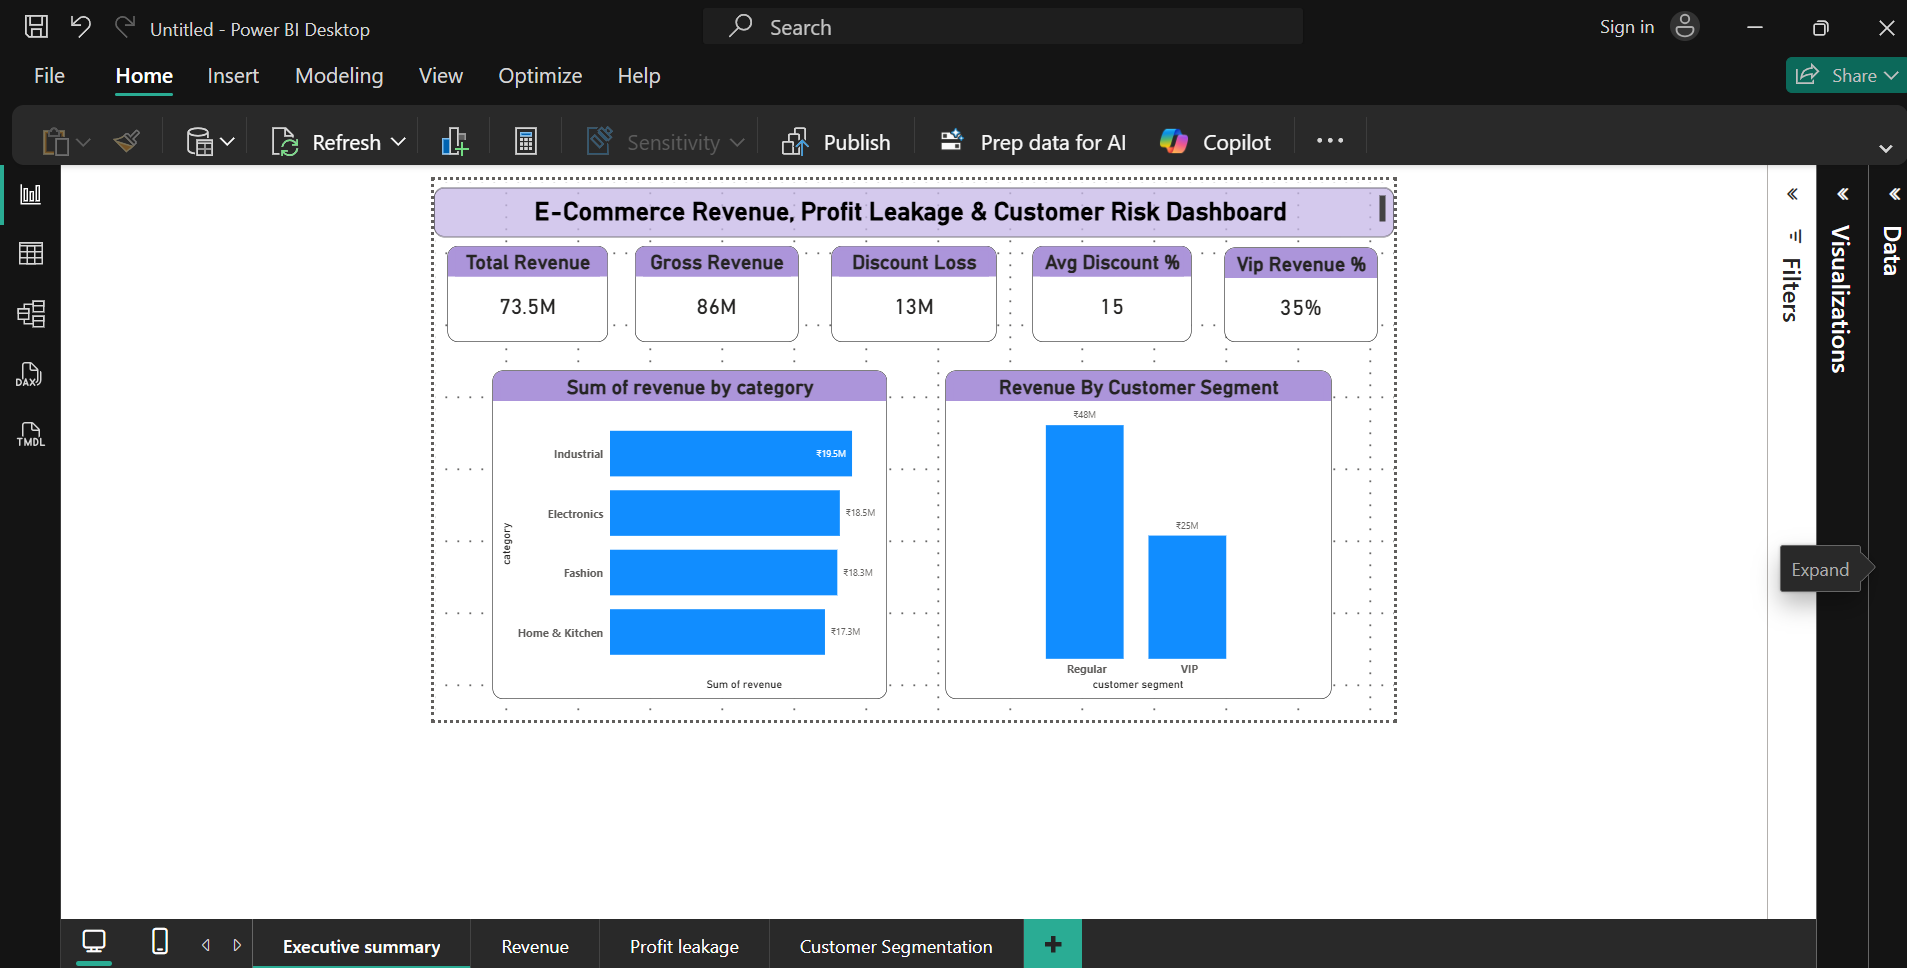

The page's visual inventory and layout, read from the dashboard file:
{"tool":"powerbi","page":{"name":"Executive summary","canvas":[1280,720],"ordinal":0},"visuals":[{"type":"card","title":"Total Revenue","fields":{"Values":["Sum(orders.revenue)"]},"box":[18,88,214,128],"z":0},{"type":"card","title":"Gross Revenue","fields":{"Values":["Sum(orders.gross revenue)"]},"box":[268,88,218,128],"z":1000},{"type":"card","title":"Discount Loss","fields":{"Values":["Sum(orders.discount loss)"]},"box":[530,88,220,128],"z":2000},{"type":"card","title":"Avg Discount %","fields":{"Values":["Avg(orders.discount_percent)"]},"box":[798,88,212,128],"z":3000},{"type":"card","title":"Vip Revenue %","fields":{"Values":["orders.VIP Revenue %"]},"box":[1054,90,204,126],"z":4000},{"type":"barChart","fields":{"Category":["orders.category"],"Y":["Sum(orders.revenue)"]},"box":[78.7,253.4,526.1,437.8],"z":5000},{"type":"columnChart","title":"Revenue By Customer Segment","fields":{"Category":["orders.customer segment"],"Y":["Sum(orders.revenue)"]},"box":[681.6,253.4,514.6,437.8],"z":6000},{"type":"textbox","box":[0,10,1280,66],"z":7000}]}

Visuals, with their boxes on the page's 1280x720 design canvas (x1, y1, x2, y2). These are canvas units, not pixel positions in the 1907x968 screenshot, which may show the page scaled, cropped or inside an application window:
"Total Revenue" card: {"left": 18, "top": 88, "right": 232, "bottom": 216}
"Gross Revenue" card: {"left": 268, "top": 88, "right": 486, "bottom": 216}
"Discount Loss" card: {"left": 530, "top": 88, "right": 750, "bottom": 216}
"Avg Discount %" card: {"left": 798, "top": 88, "right": 1010, "bottom": 216}
"Vip Revenue %" card: {"left": 1054, "top": 90, "right": 1258, "bottom": 216}
barChart - orders.category x Sum(orders.revenue): {"left": 79, "top": 253, "right": 605, "bottom": 691}
"Revenue By Customer Segment" columnChart: {"left": 682, "top": 253, "right": 1196, "bottom": 691}
textbox: {"left": 0, "top": 10, "right": 1280, "bottom": 76}
